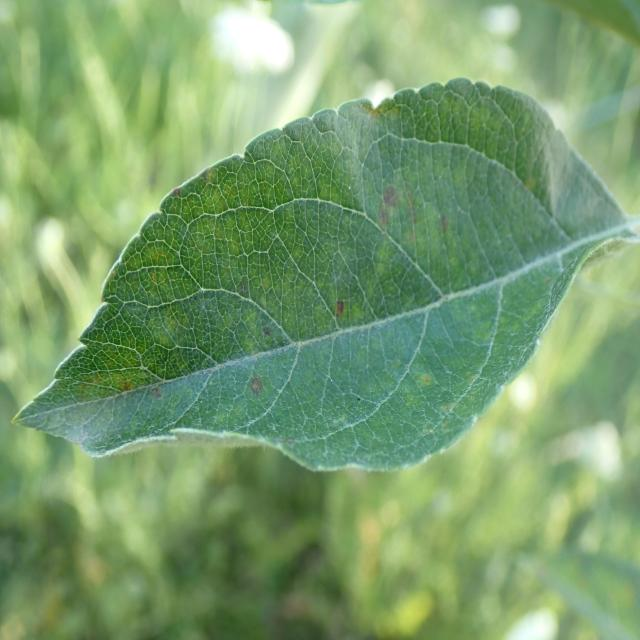scab: (39, 79, 619, 463)
